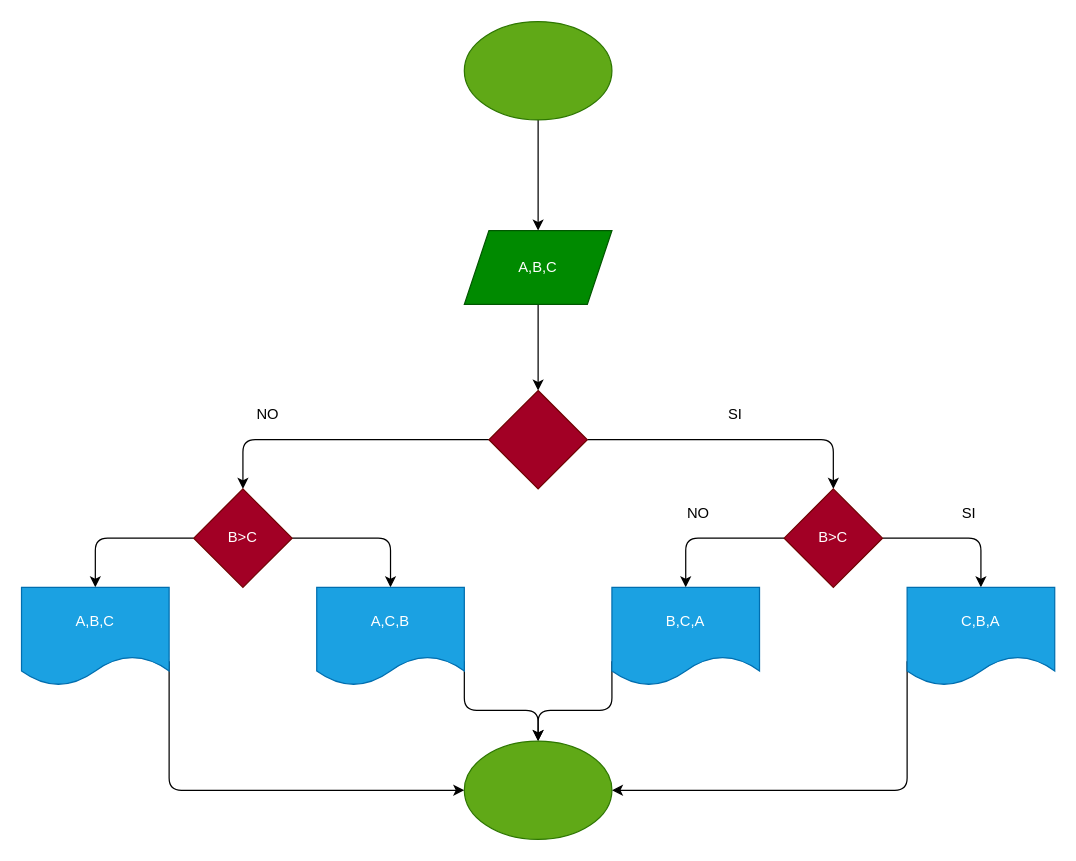
Some shapes in this 1076 by 861 pixel diagram are drawn without their labels. Here are the shapes that lost their labels. From the top down, the centre of each, then its label:
the point at 537,70: INICIO
the point at 537,439: A>B
the point at 537,789: FIN
